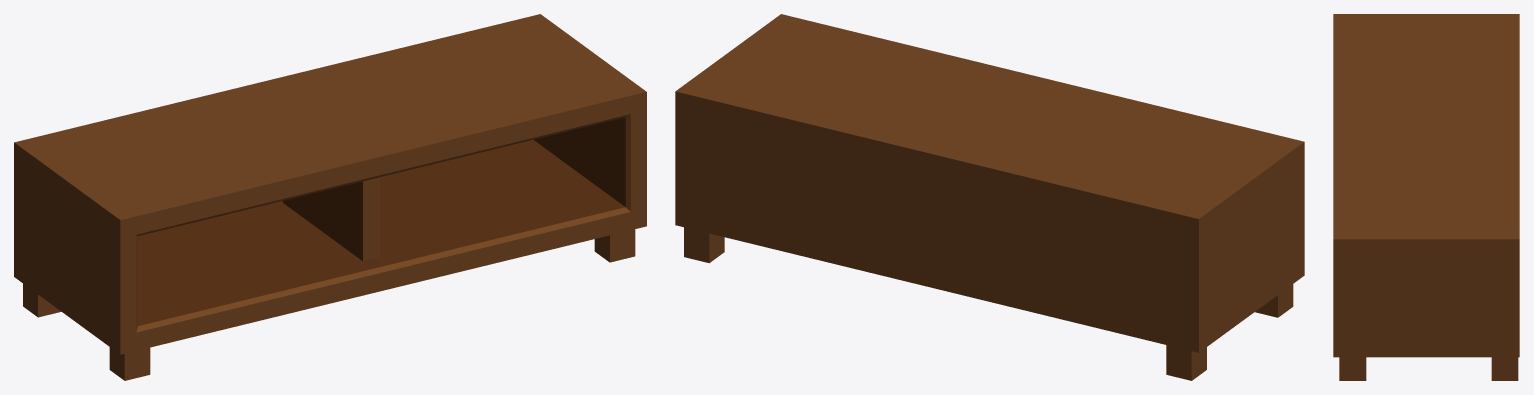
File: TVStand.fbx
3 renders of one model, left to right at view 1: azimuth 30°, elevation 25°; view 2: azimuth 150°, elevation 25°; view 3: azimuth 270°, elevation 25°, orthographic. The views are drawn at different scales.
Visible parts, largest first — view 1: Prop_Table_19; view 2: Prop_Table_19; view 3: Prop_Table_19.
Boxes of the visible parts, x1,y1,x2,y2 form: Prop_Table_19: (14,14,646,380); Prop_Table_19: (675,14,1304,380); Prop_Table_19: (1333,14,1519,380).
Size of the model in its own units: 200 by 60 by 70.
Materials: 1 (1 with a texture image).
